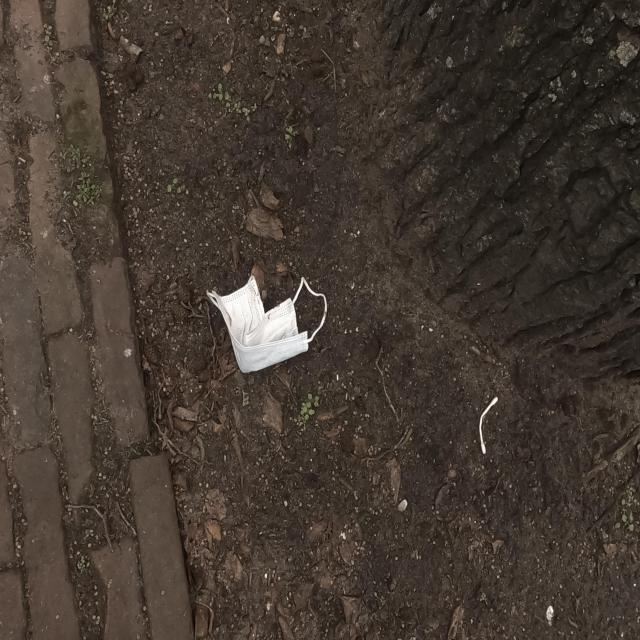Mask: (204, 273, 331, 377)
